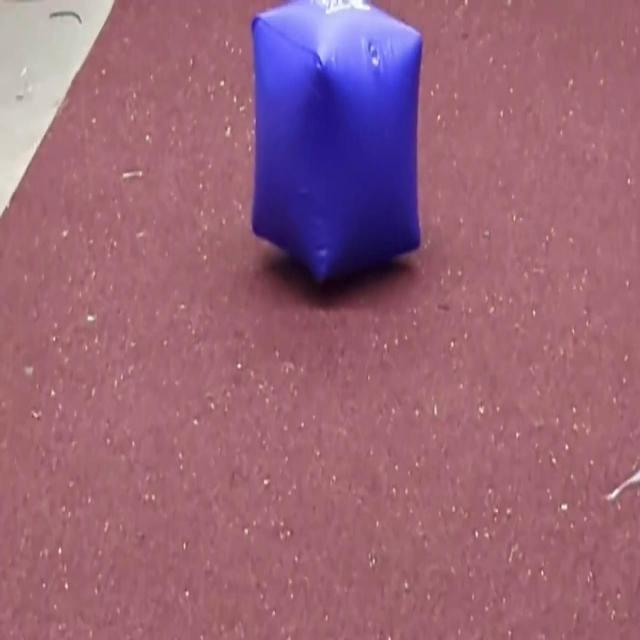frc_cube: (249, 0, 424, 293)
